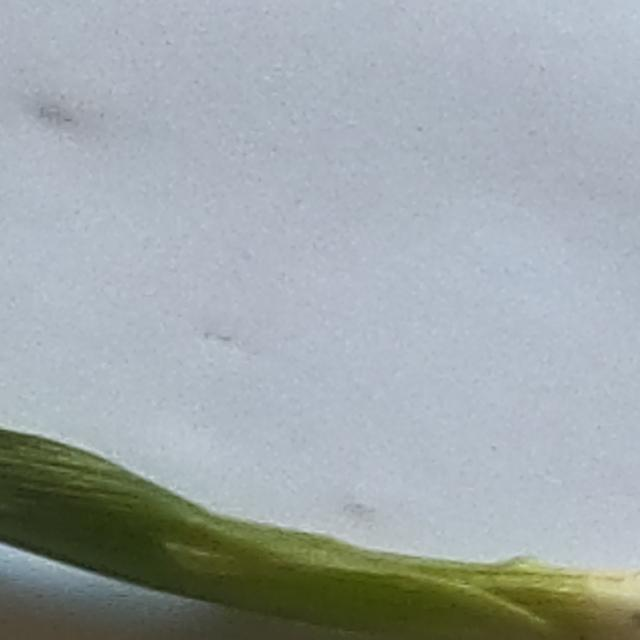green_onion: (0, 427, 640, 640)
